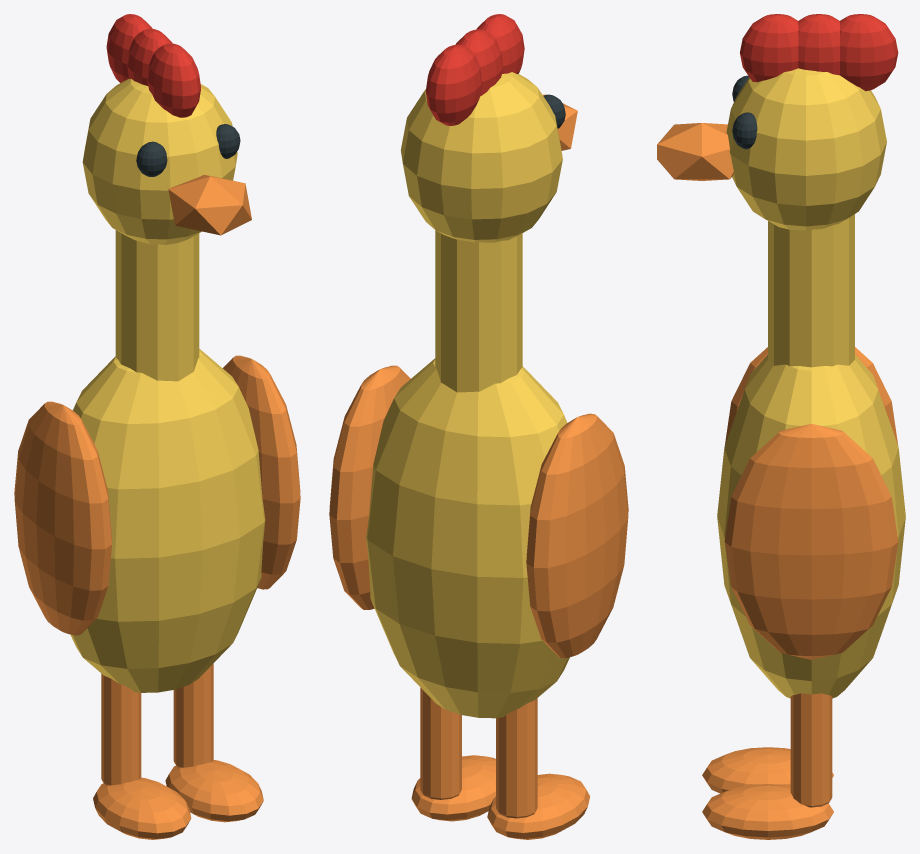
Rendered from P043_rubber_chicken.glb.
3 renders of one model, left to right at view 1: azimuth 30°, elevation 25°; view 2: azimuth 150°, elevation 25°; view 3: azimuth 270°, elevation 25°, orthographic. The views are drawn at different scales.
Parts seen in each view (by area): view 1: P043_body_001, P043_wing_008, P043_head_003, P043_neck_002, P043_wing_012, P043_foot_006, P043_foot_010, P043_leg_005, P043_beak_004, P043_leg_009, P043_comb_013, P043_comb_015 (+3 smaller); view 2: P043_body_001, P043_head_003, P043_wing_008, P043_neck_002, P043_wing_012, P043_leg_005, P043_leg_009, P043_foot_006, P043_comb_015, P043_foot_010, P043_comb_013, P043_comb_014 (+1 smaller); view 3: P043_wing_012, P043_body_001, P043_head_003, P043_neck_002, P043_foot_010, P043_leg_009, P043_beak_004, P043_comb_015, P043_comb_013, P043_foot_006, P043_comb_014, P043_wing_008 (+1 smaller).
Part boxes in pixels (x1,y1,x2,y2): P043_body_001: (70,349,265,692); P043_wing_008: (14,401,112,635); P043_head_003: (82,79,237,244); P043_neck_002: (115,230,199,381); P043_wing_012: (222,355,300,589); P043_foot_006: (93,777,191,839); P043_foot_010: (165,760,263,822); P043_leg_005: (101,673,141,785); P043_beak_004: (168,174,251,235); P043_leg_009: (173,663,213,767); P043_comb_013: (147,43,200,117); P043_comb_015: (106,14,152,82); P043_body_001: (366,358,569,718); P043_head_003: (400,72,562,242); P043_wing_008: (526,413,628,658); P043_neck_002: (435,230,522,392); P043_wing_012: (329,365,410,609); P043_leg_005: (496,698,537,818); P043_leg_009: (420,687,461,799); P043_foot_006: (487,773,589,839); P043_comb_015: (425,44,481,125); P043_foot_010: (411,755,495,821); P043_comb_013: (476,14,524,73); P043_comb_014: (455,29,502,96); P043_wing_012: (724,424,898,659); P043_body_001: (717,354,905,698); P043_head_003: (726,68,886,230); P043_neck_002: (768,214,854,367); P043_foot_010: (702,784,833,839); P043_leg_009: (790,693,832,807); P043_beak_004: (657,123,733,180); P043_comb_015: (840,14,898,91); P043_comb_013: (740,14,798,82); P043_foot_006: (702,747,833,793); P043_comb_014: (798,14,839,75); P043_wing_008: (725,347,898,445).
Size of the model in its own units: 0.1536 by 0.467 by 0.1318.
